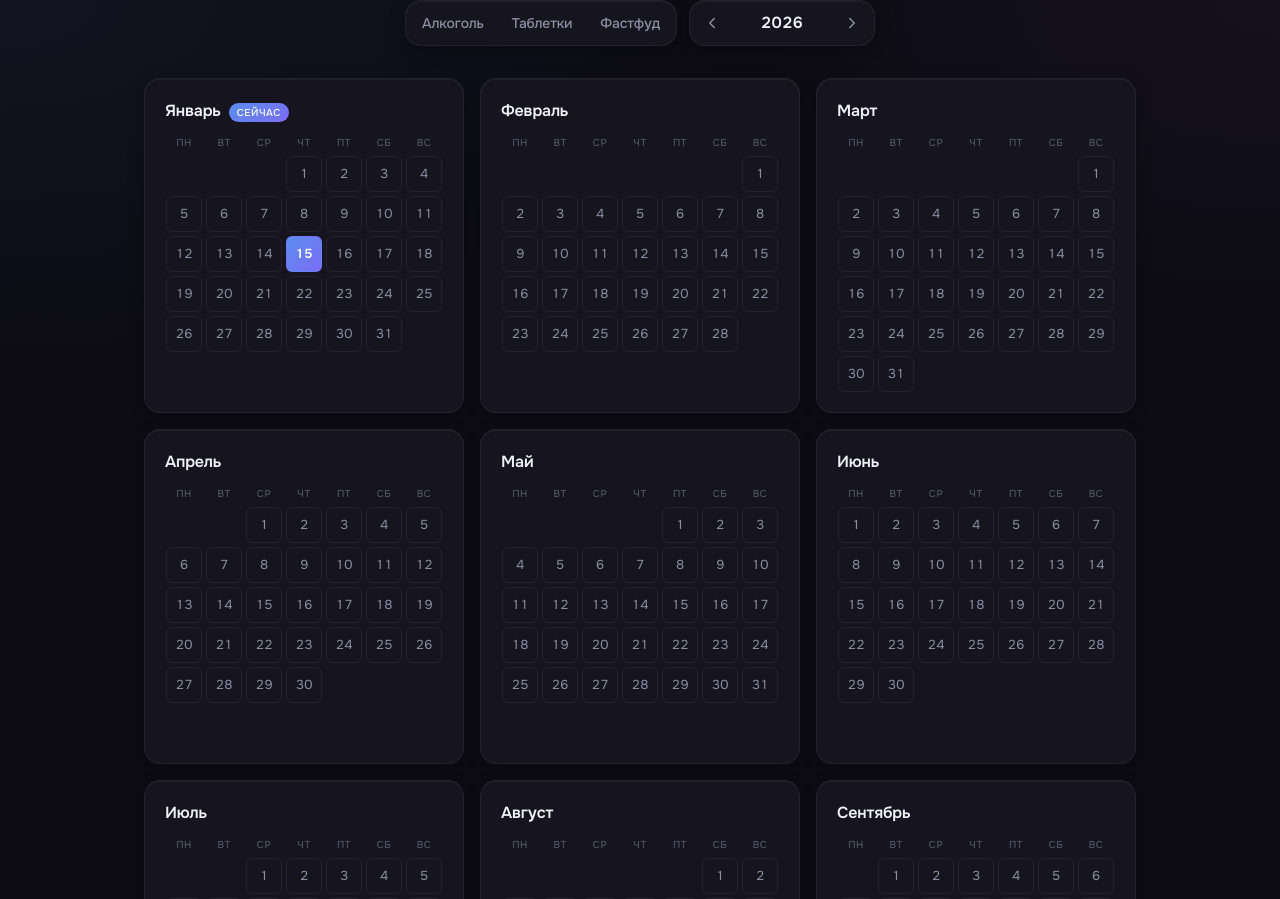
Test: свичер года переключает год
The image size is (1280, 899).
Expected: the text "2026" is shown, top-left (761, 11), bottom-right (803, 35)
Click the button named "Предыдущий год" at (712, 23), box top-left (694, 5), bottom-right (730, 41)
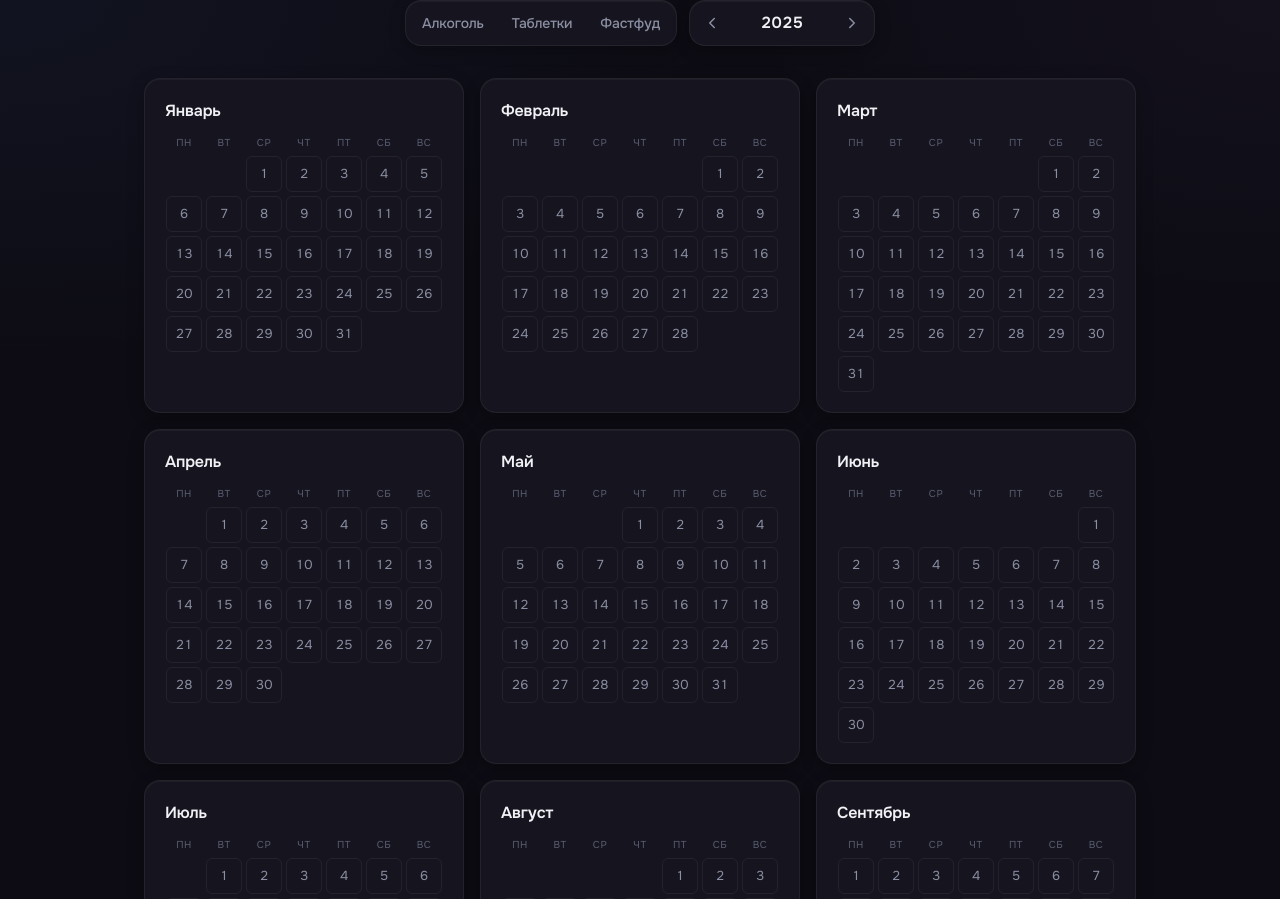
Expected: the text "2025" is shown, top-left (761, 11), bottom-right (803, 35)
